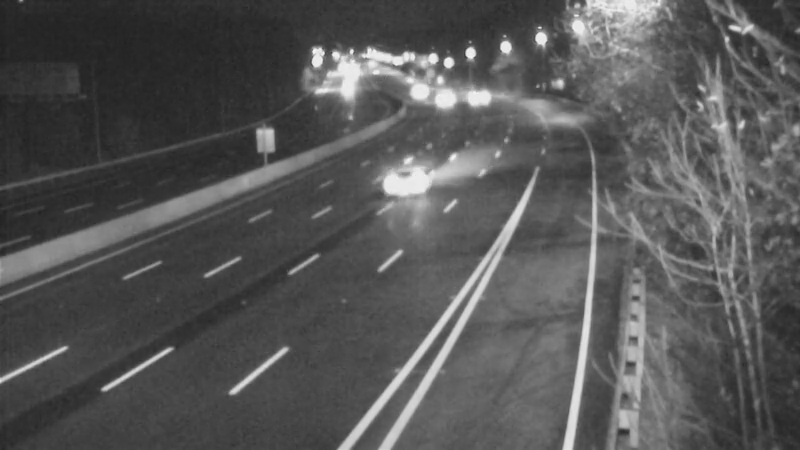vehicle: (366, 136, 446, 216), (393, 67, 443, 117), (445, 68, 495, 118), (414, 71, 464, 121)
